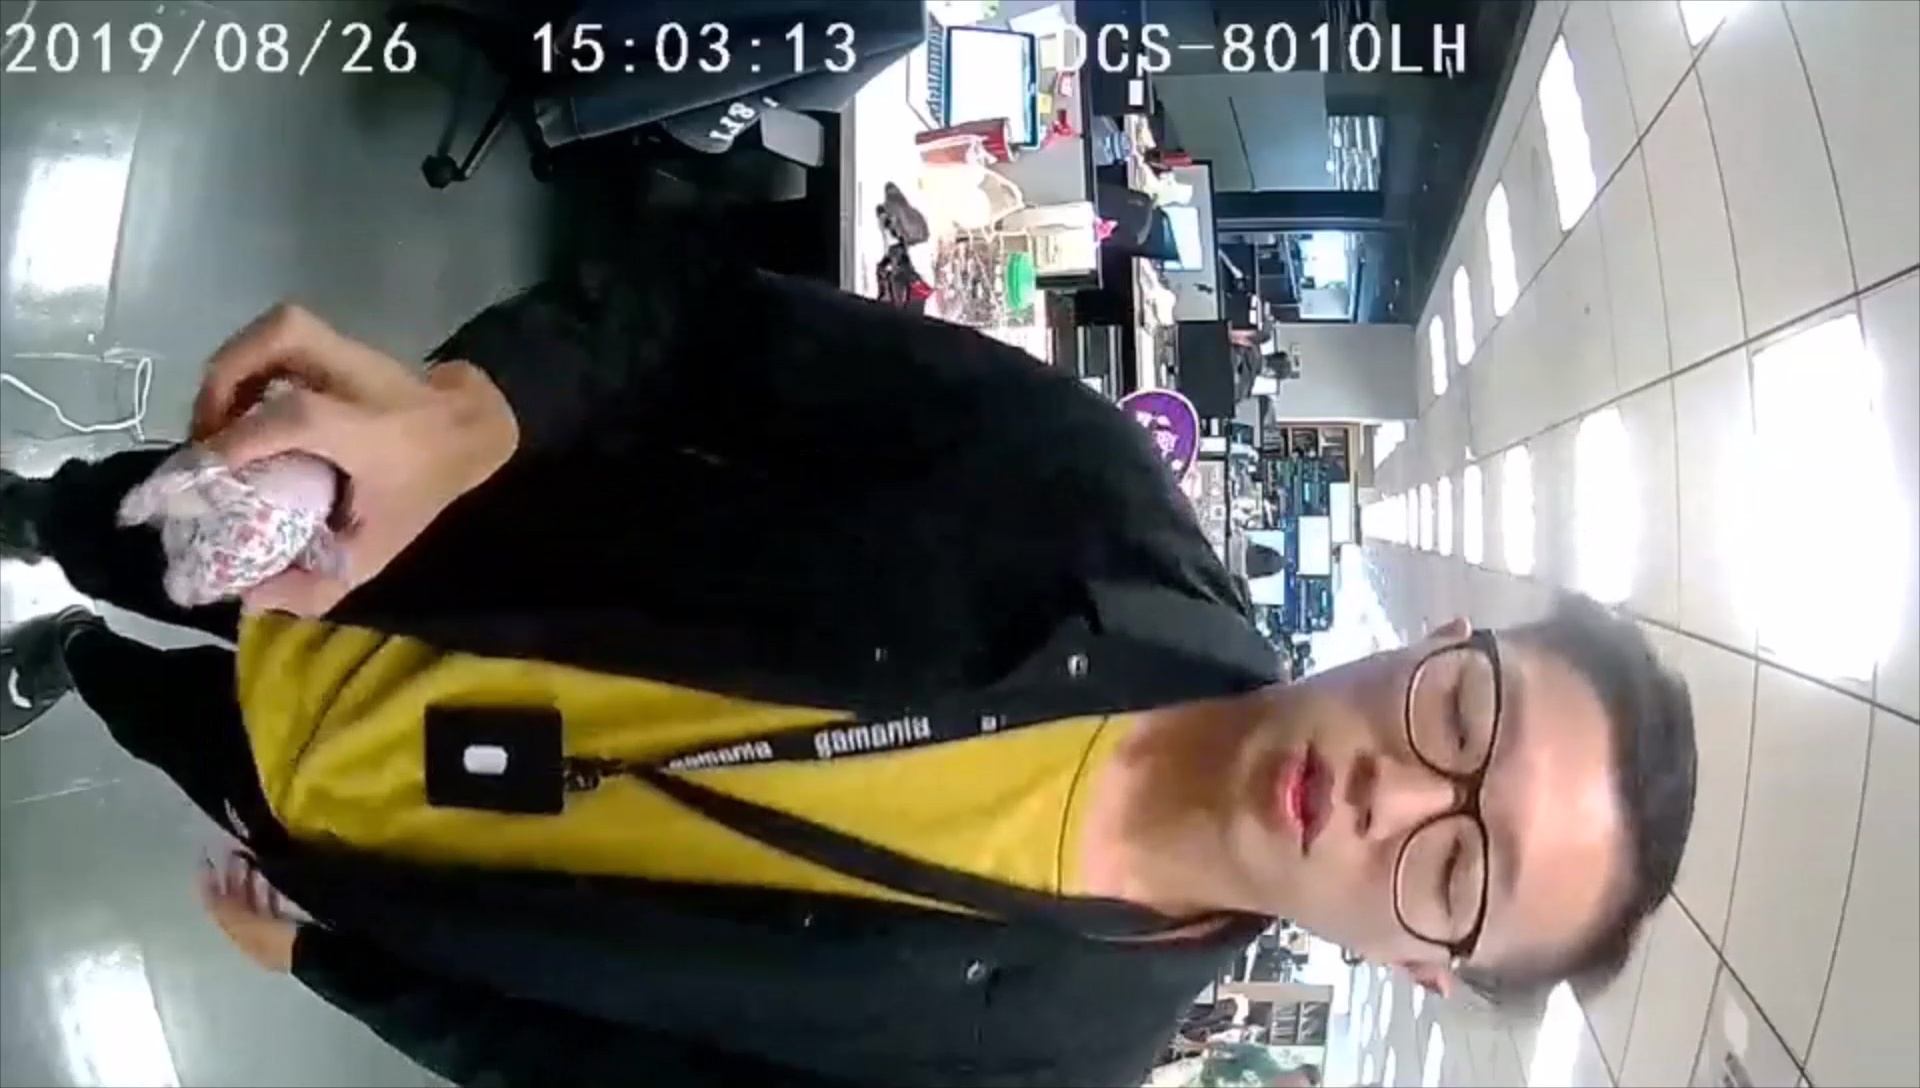pig: (117, 423, 342, 609)
